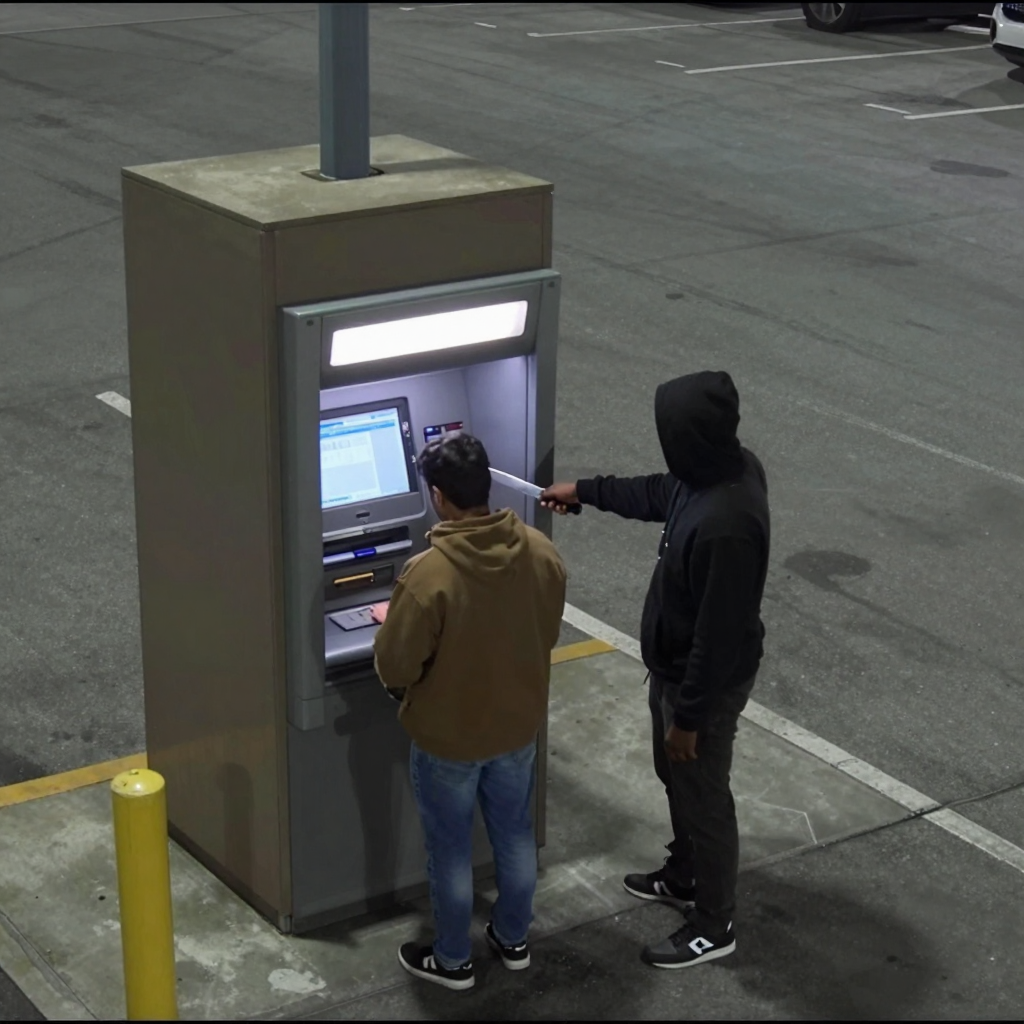Assault: (488, 467, 581, 516)
Robbery: (538, 370, 772, 971), (370, 432, 568, 994)
